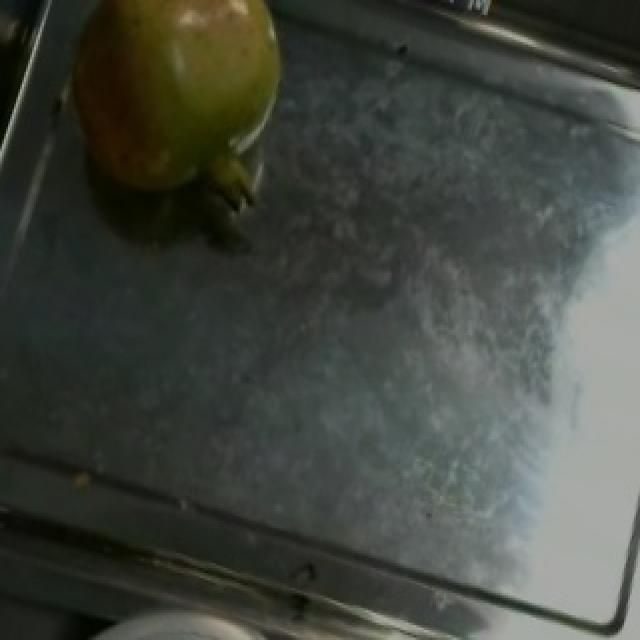fruit: (40, 0, 320, 218)
